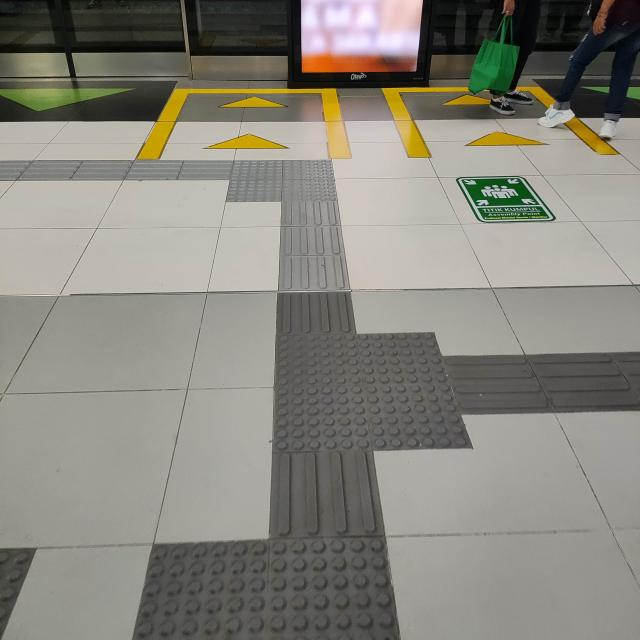kiri: (170, 131, 358, 231)
